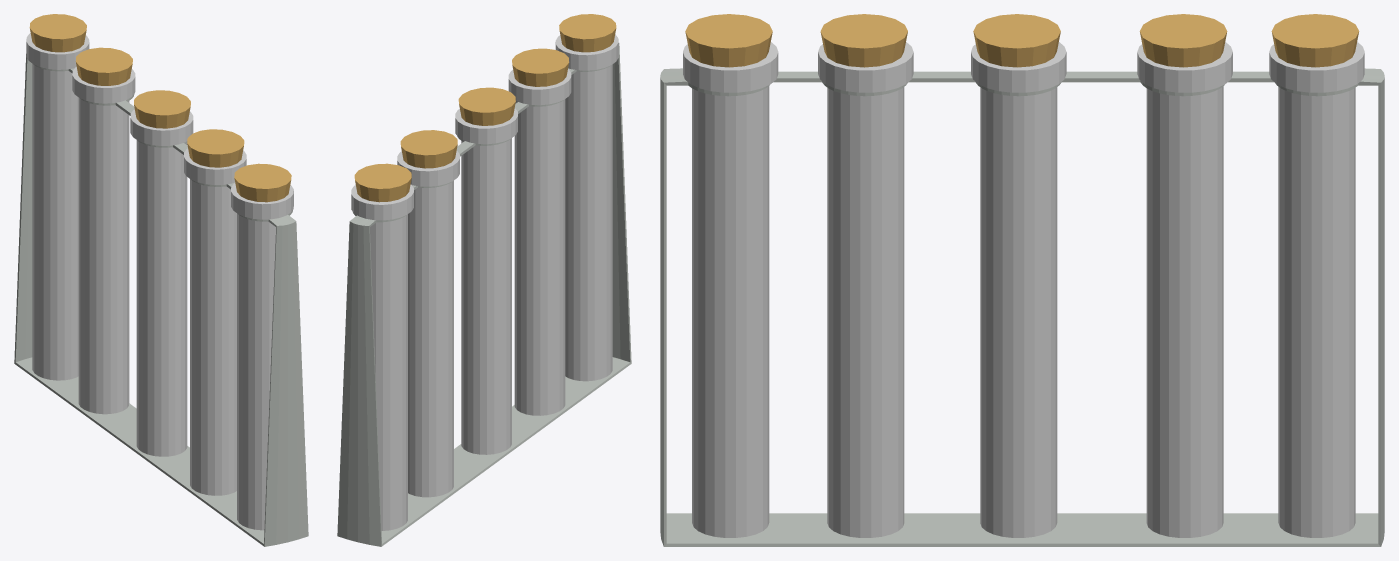
The model's file is glass tube.fbx.
3 views of the same model, side by side, from view 1: azimuth 30°, elevation 25°; view 2: azimuth 150°, elevation 25°; view 3: azimuth 270°, elevation 25° (orthographic). The views are drawn at different scales.
Parts seen in each view (by area): view 1: Circle.031, Circle.025, Circle.022, Circle.019, Circle.028, Circle.016, Circle.020, Circle.029, Circle.023, Circle.017, Circle.026; view 2: Circle.031, Circle.019, Circle.022, Circle.016, Circle.025, Circle.028, Circle.017, Circle.026, Circle.023, Circle.020, Circle.029; view 3: Circle.028, Circle.025, Circle.016, Circle.022, Circle.019, Circle.031, Circle.029, Circle.026, Circle.023, Circle.020, Circle.017.
Part boxes in pixels (<box>): Circle.031: <box>14,54,308,546</box>; Circle.025: <box>72,67,135,414</box>; Circle.022: <box>130,109,193,456</box>; Circle.019: <box>184,148,246,495</box>; Circle.028: <box>26,33,89,380</box>; Circle.016: <box>231,183,293,530</box>; Circle.020: <box>187,129,244,167</box>; Circle.029: <box>29,14,86,52</box>; Circle.023: <box>134,90,190,128</box>; Circle.017: <box>234,163,291,202</box>; Circle.026: <box>75,47,132,85</box>; Circle.031: <box>337,43,631,546</box>; Circle.019: <box>508,69,571,415</box>; Circle.022: <box>455,108,517,454</box>; Circle.016: <box>555,34,618,381</box>; Circle.025: <box>397,150,459,497</box>; Circle.028: <box>351,184,413,530</box>; Circle.017: <box>559,14,616,52</box>; Circle.026: <box>400,130,457,168</box>; Circle.023: <box>458,87,515,125</box>; Circle.020: <box>512,48,569,86</box>; Circle.029: <box>354,163,411,202</box>; Circle.028: <box>1269,42,1364,537</box>; Circle.025: <box>1137,42,1232,537</box>; Circle.016: <box>683,42,778,537</box>; Circle.022: <box>971,42,1066,537</box>; Circle.019: <box>818,42,913,537</box>; Circle.031: <box>660,68,1384,546</box>; Circle.029: <box>1271,14,1359,67</box>; Circle.026: <box>1139,14,1227,67</box>; Circle.023: <box>973,14,1060,67</box>; Circle.020: <box>820,14,907,67</box>; Circle.017: <box>685,14,772,67</box>.
Size of the model in its own units: 6.49 by 40.56 by 53.3.
